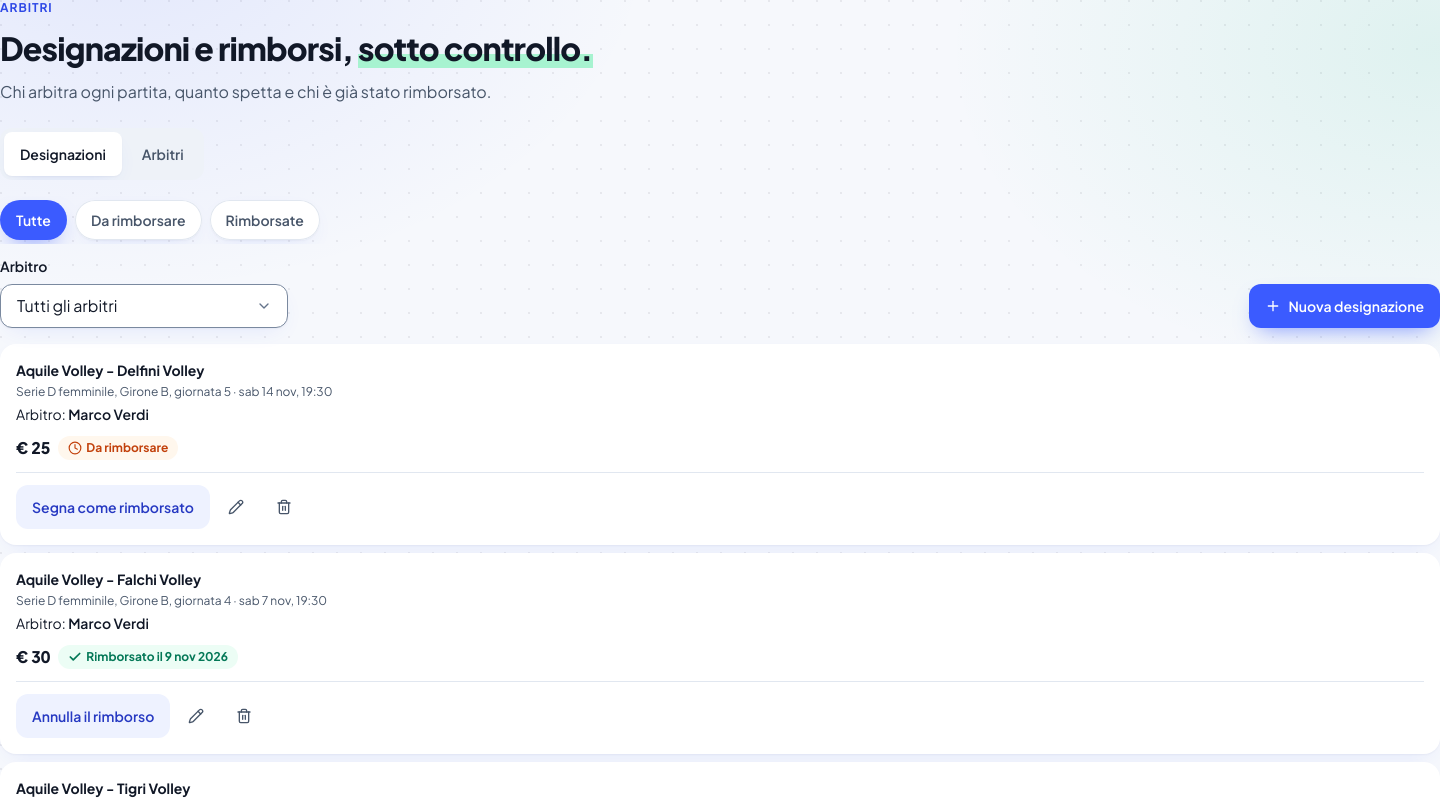
Test: ArbitriPage designations › explains that the referee is already designated for that match
Click the button "Nuova designazione": coordinates (1344, 306) [1248,284,1439,328]
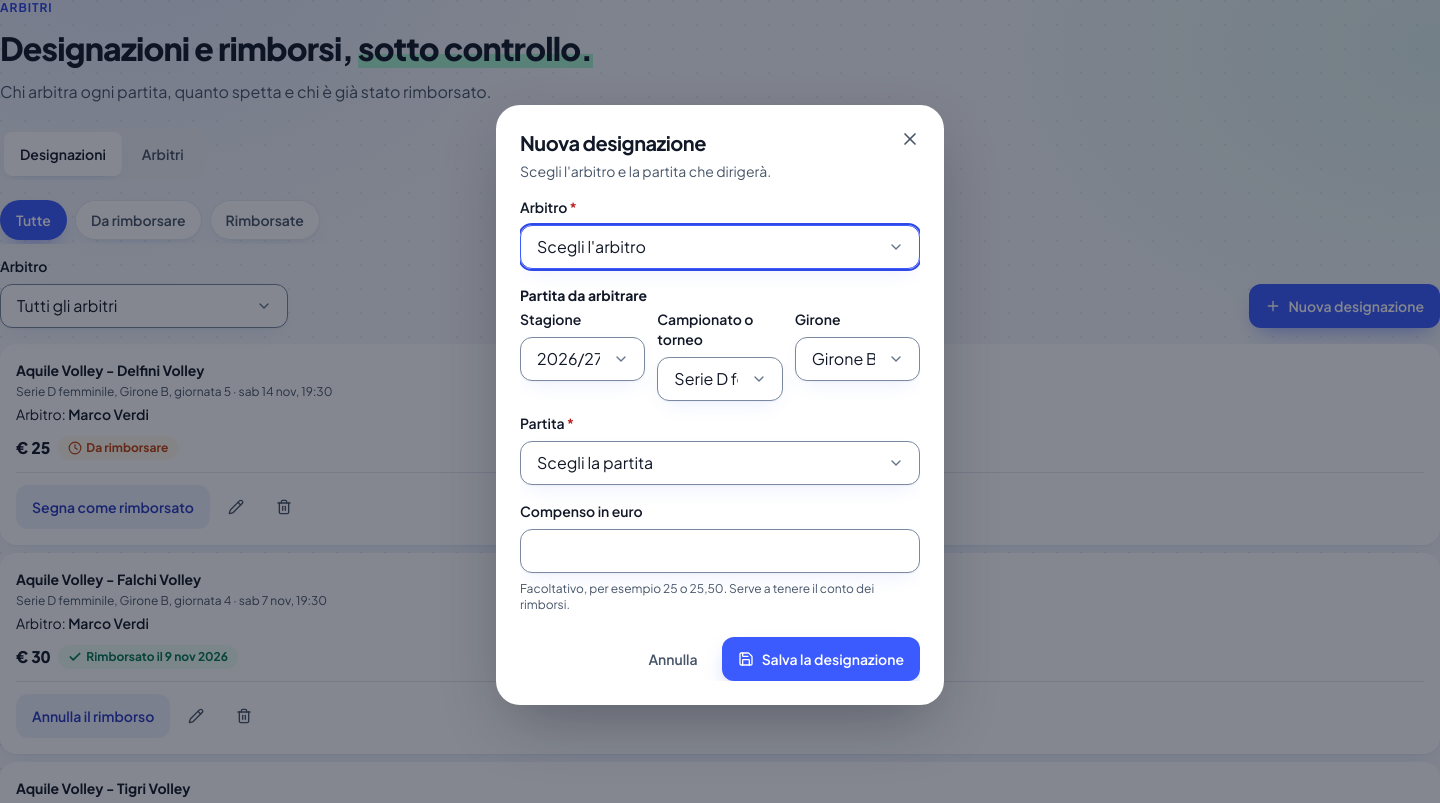
Select "Marco Verdi" in the dropdown labelled "Arbitro*": coordinates (720, 247) [520,225,920,269]
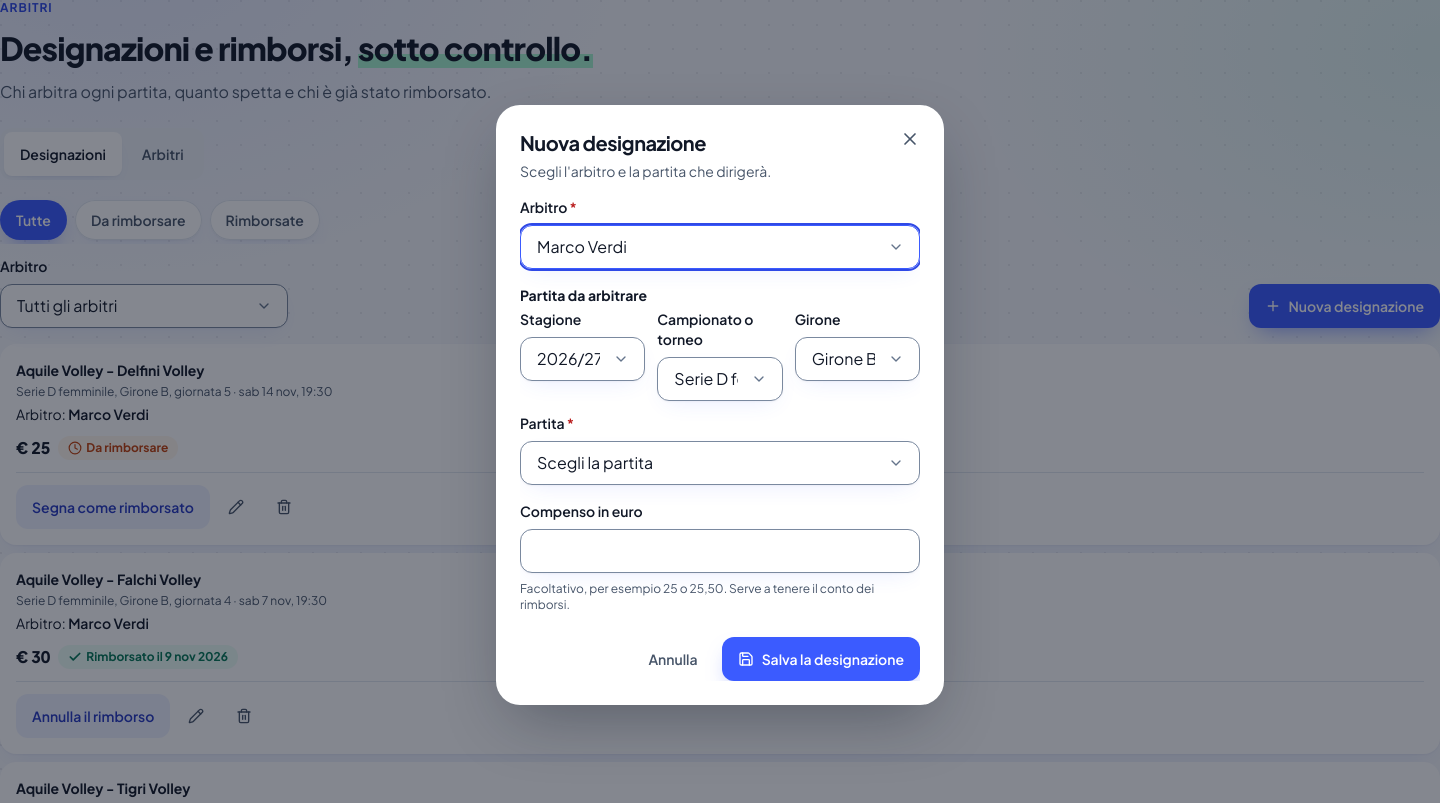
Now the dropdown labelled "Partita*" is enabled
Select "G5 · Aquile Volley - Delfini Volley · sab 14 nov, 19:30" in the dropdown labelled "Partita*": coordinates (720, 463) [520,441,920,485]
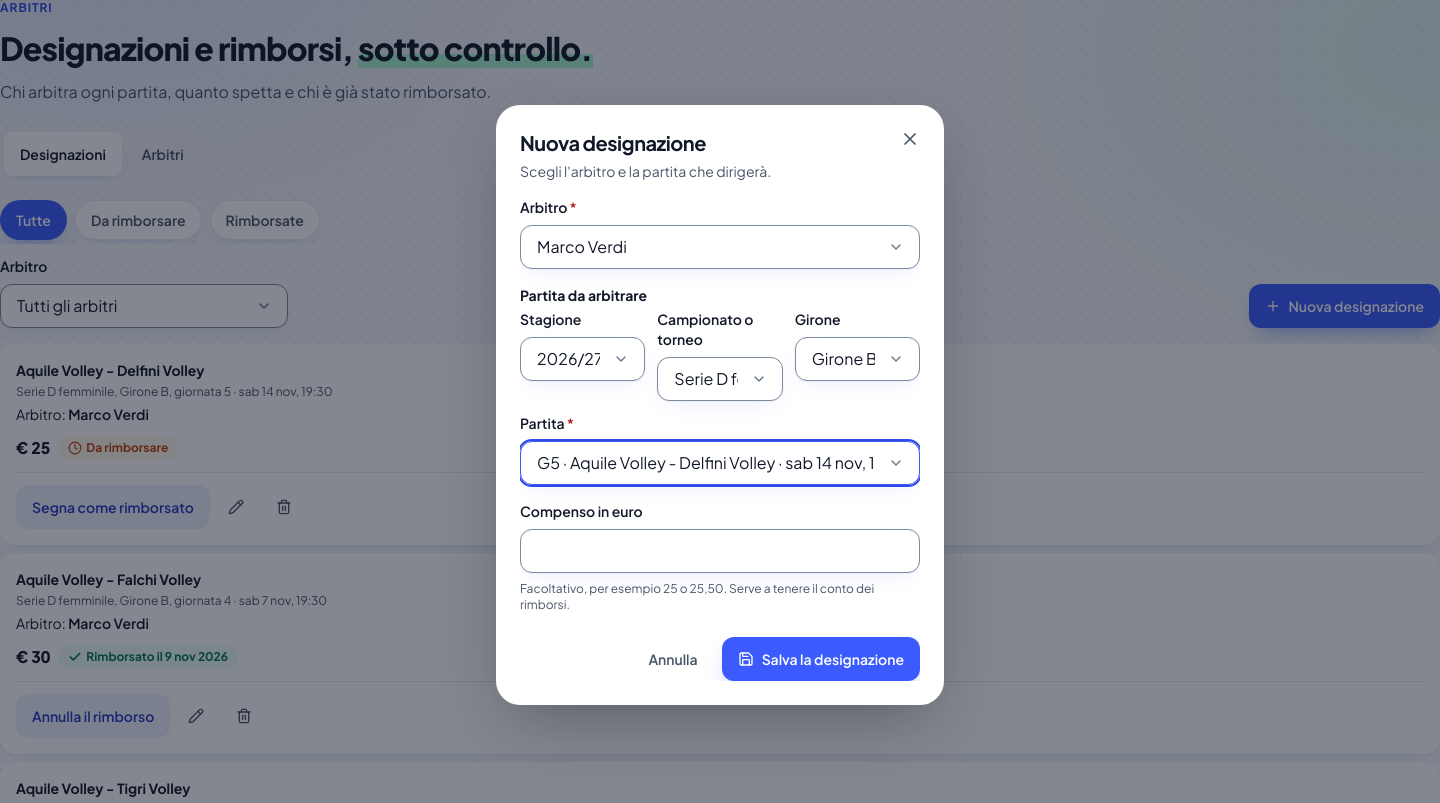
Click the button "Salva la designazione": coordinates (821, 659) [722,637,920,681]
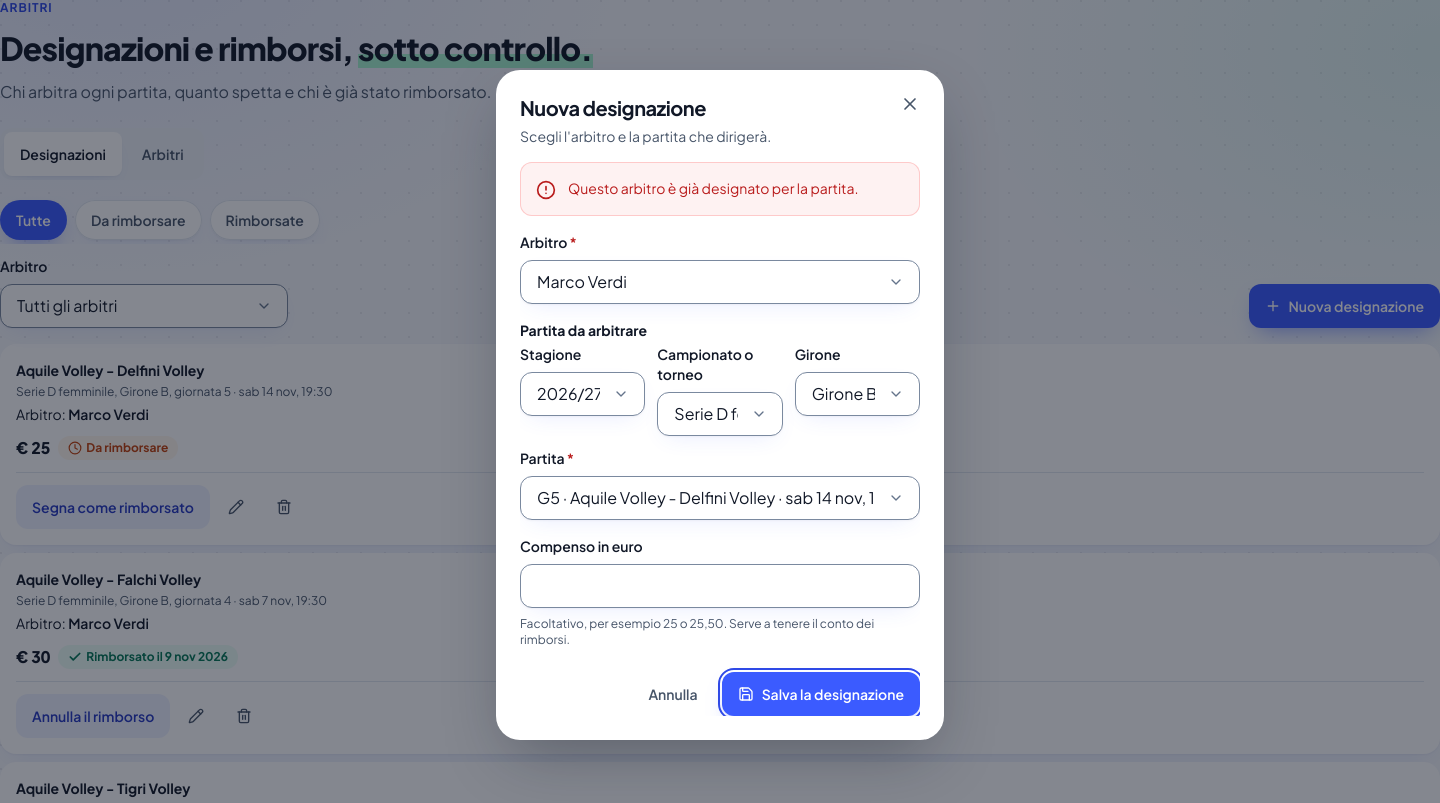
Now the text "Questo arbitro è già designato per la partita." is shown, box [568,178,858,198]
